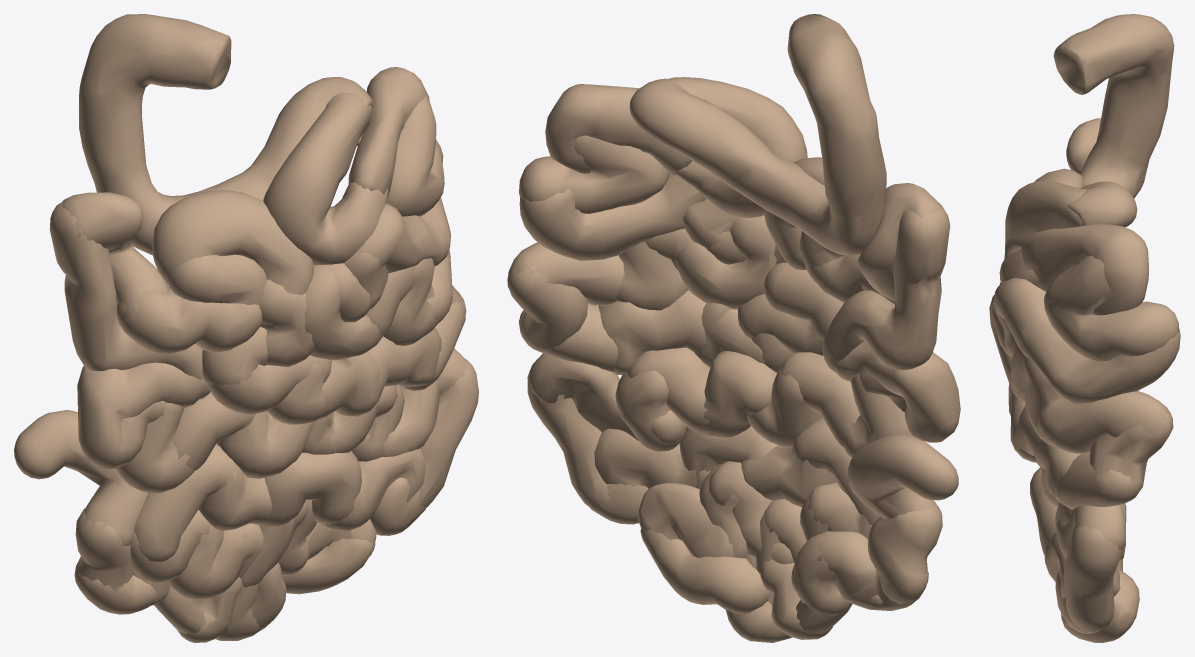
File: small_intestine.glb
3 views of the same model, side by side, from view 1: azimuth 30°, elevation 25°; view 2: azimuth 150°, elevation 25°; view 3: azimuth 270°, elevation 25° (orthographic). The views are drawn at different scales.
Parts seen in each view (by area): view 1: world; view 2: world; view 3: world.
Part boxes in pixels (bbox=[...]): world: bbox=[14, 14, 478, 642]; world: bbox=[507, 14, 960, 642]; world: bbox=[989, 14, 1180, 642].
Bounding box in the file's own units: 1.46 × 2 × 0.5929.
